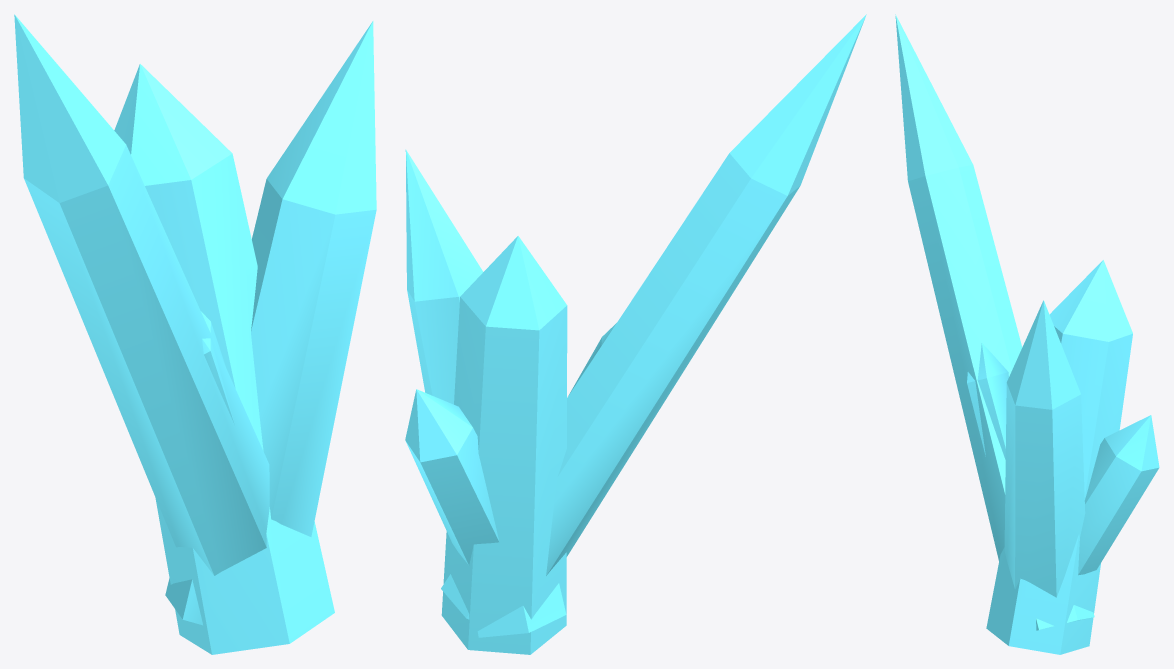
File: obj_deco_cristales_3.glb
3 views of the same model, side by side, from view 1: azimuth 30°, elevation 25°; view 2: azimuth 150°, elevation 25°; view 3: azimuth 270°, elevation 25° (orthographic). The views are drawn at different scales.
Visible parts, largest first — view 1: propforge-libre-deco_cristales; view 2: propforge-libre-deco_cristales; view 3: propforge-libre-deco_cristales.
Part boxes in pixels (left/top/right/bottom): propforge-libre-deco_cristales: left=14, top=14, right=376, bottom=654; propforge-libre-deco_cristales: left=405, top=14, right=866, bottom=654; propforge-libre-deco_cristales: left=895, top=14, right=1159, bottom=654.
Size of the model in its own units: 0.4288 by 0.6854 by 0.3157.
